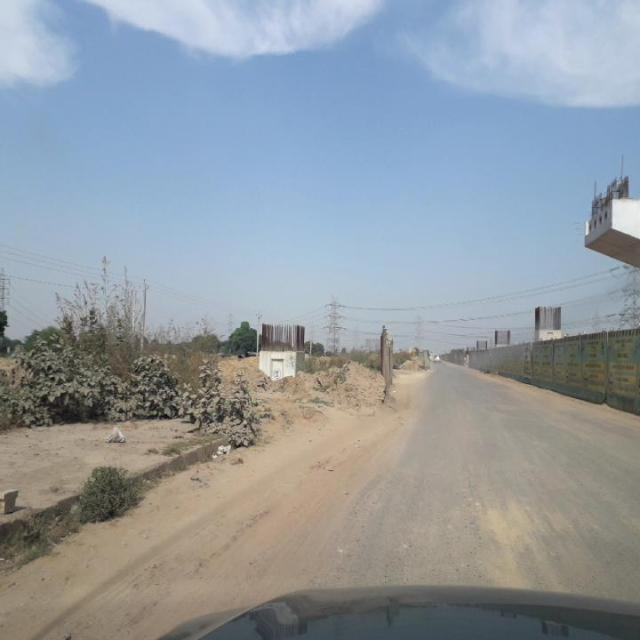Surface Erosion: (35, 333, 640, 640)
